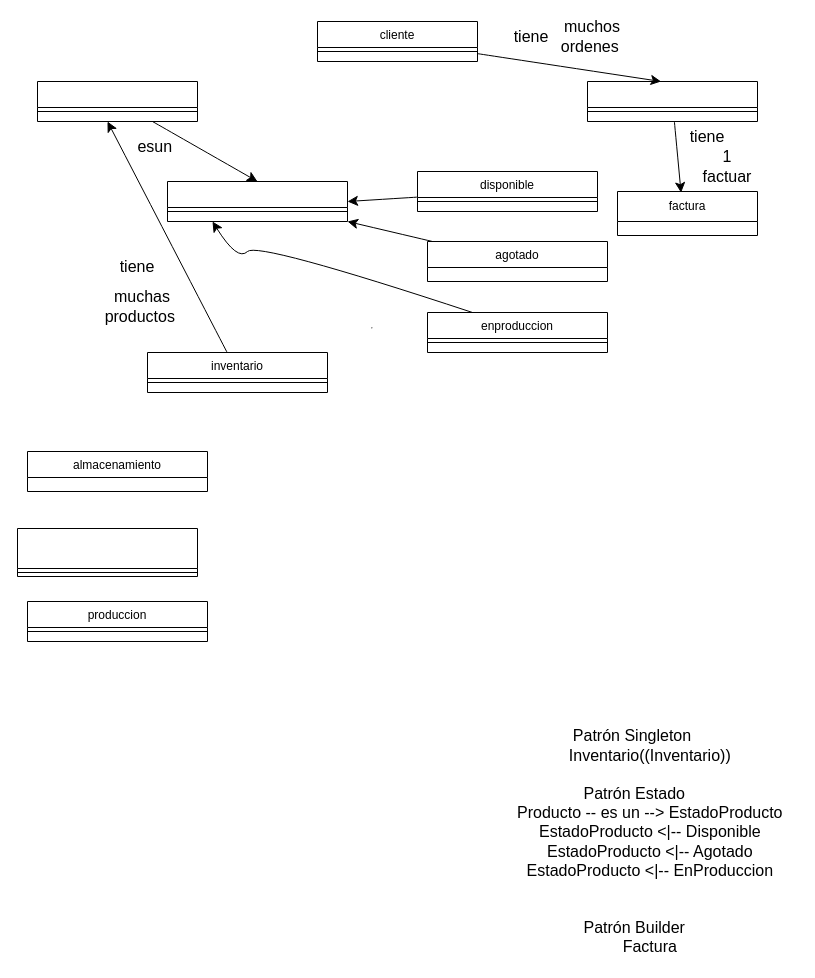
This 815x978 diagram has some shape labels left out. Here are the shapes that lost their labels. From the top down, the centre of each, then its label:
At point (117, 101): "producto".
At point (672, 101): "orden de compra".
At point (257, 201): "estado de producto".
At point (107, 552): "importacion".
